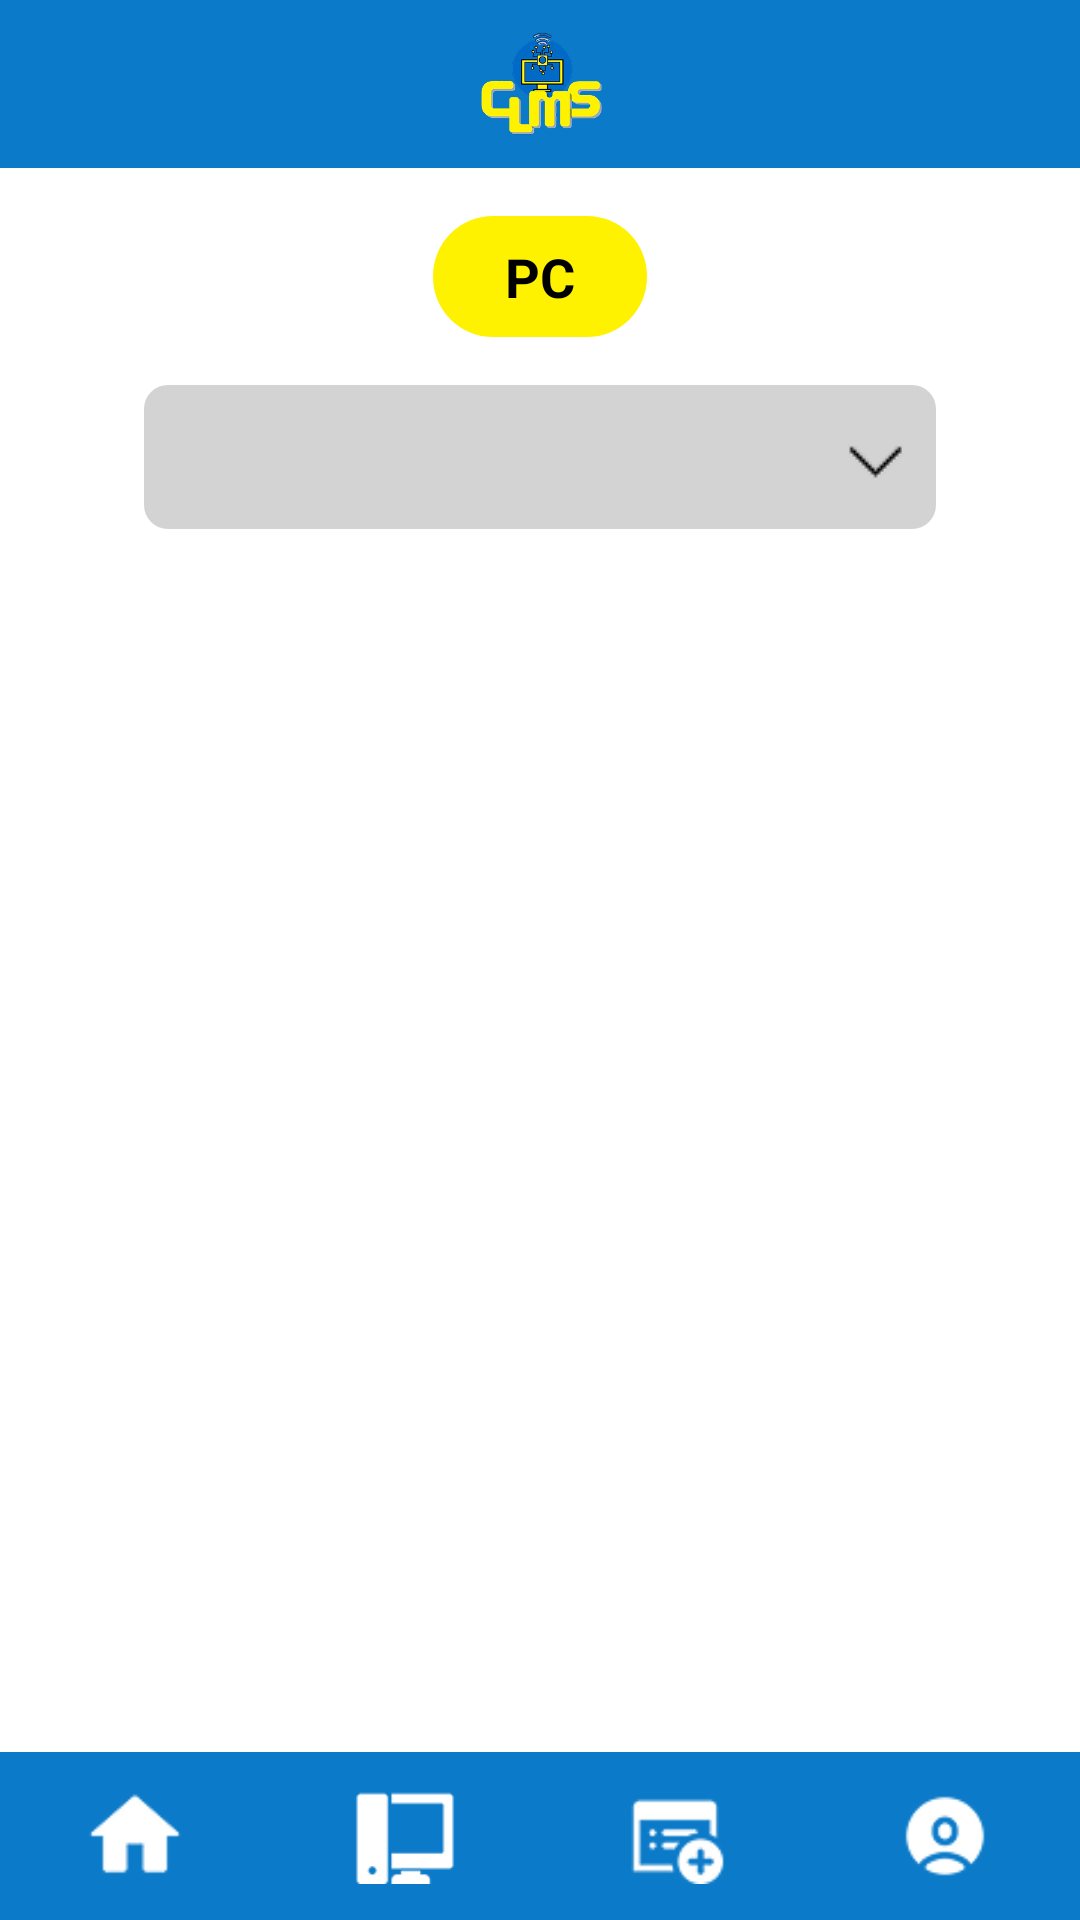

Icon click points for this 1080×1920 phone screenshot, format [x,y]:
Home: [135,1833]
Profile: [945,1836]
Return to PC: [405,1838]
